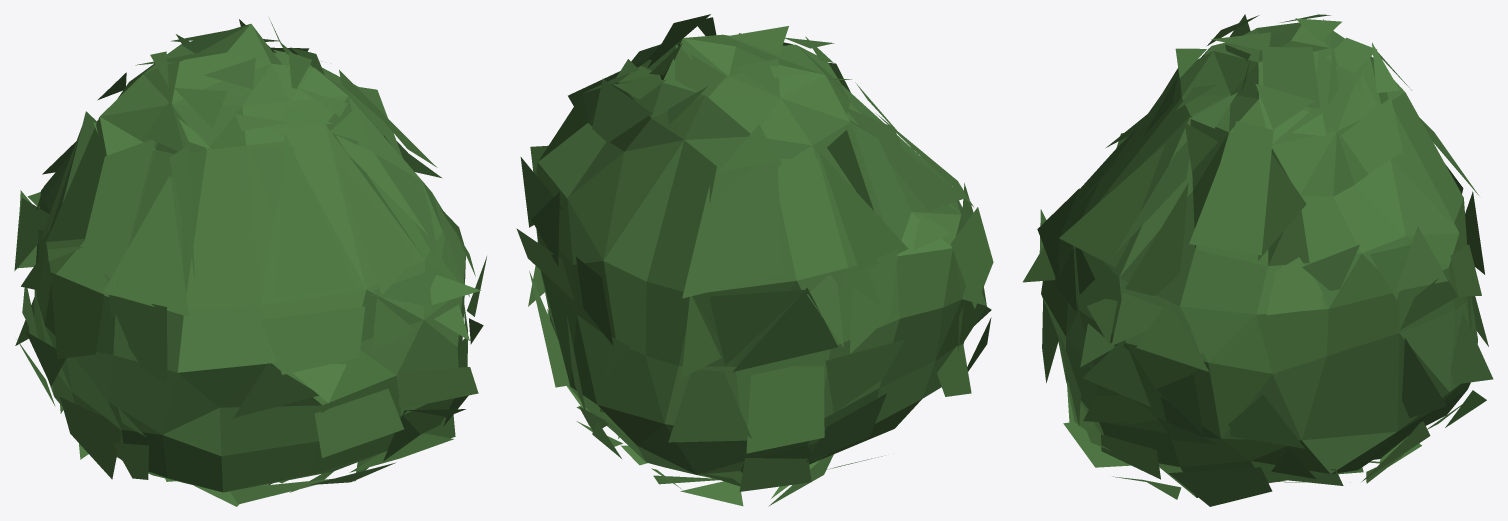
File: BushLeave.fbx
The picture shows the model from 3 angles, left to right: view 1: azimuth 30°, elevation 25°; view 2: azimuth 150°, elevation 25°; view 3: azimuth 270°, elevation 25°; orthographic projection. The views are drawn at different scales.
Parts seen in each view (by area): view 1: Sphere, Sphere.001; view 2: Sphere, Sphere.001; view 3: Sphere, Sphere.001.
Boxes of the visible parts, x1,y1,x2,y2 form: Sphere: (34, 24, 465, 492); Sphere.001: (14, 18, 486, 506); Sphere: (535, 34, 986, 483); Sphere.001: (516, 14, 993, 506); Sphere: (1041, 22, 1477, 497); Sphere.001: (1023, 14, 1493, 506).
Size of the model in its own units: 213 by 211 by 199.
